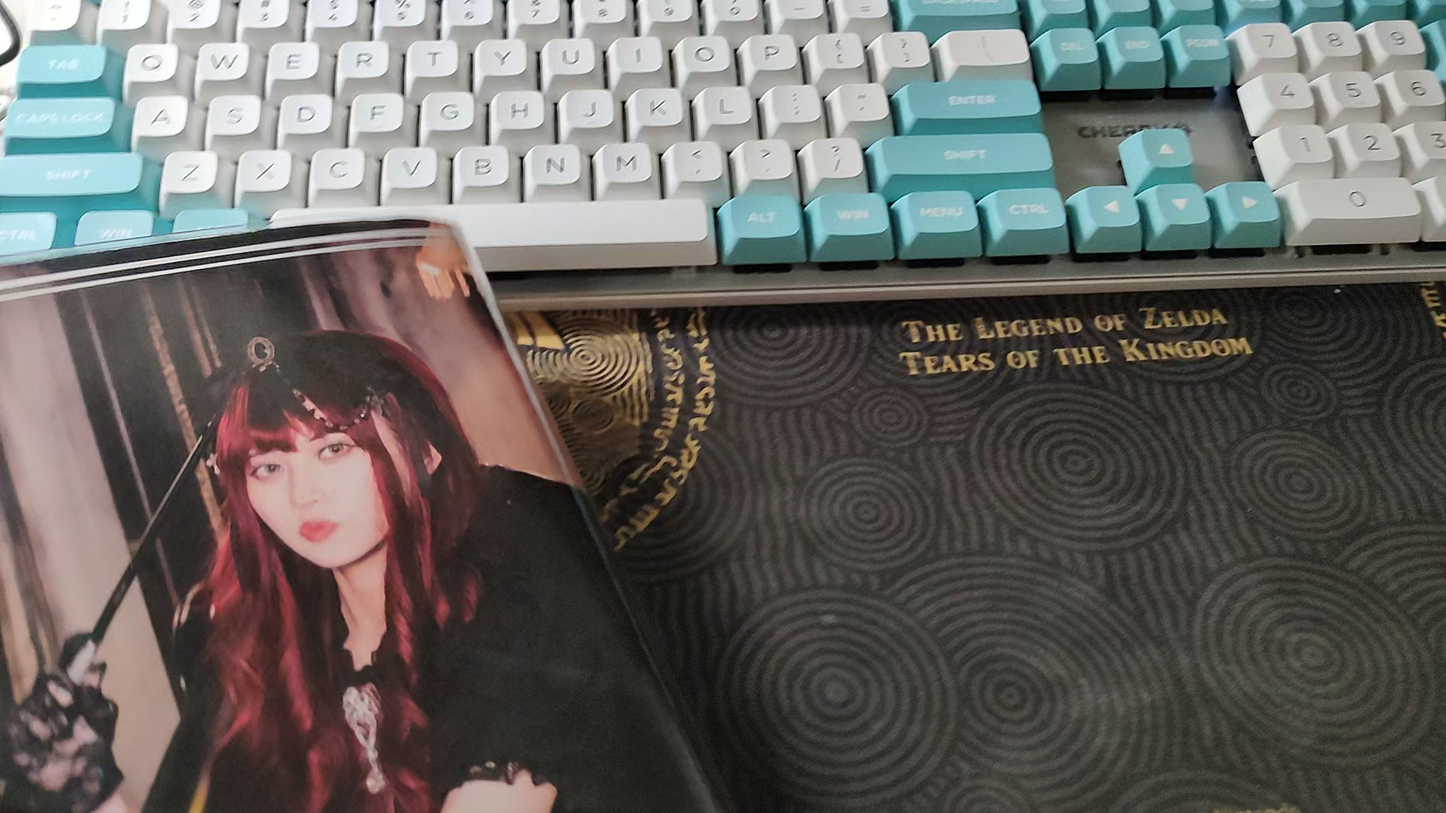Photo_book: (0, 214, 732, 813)
